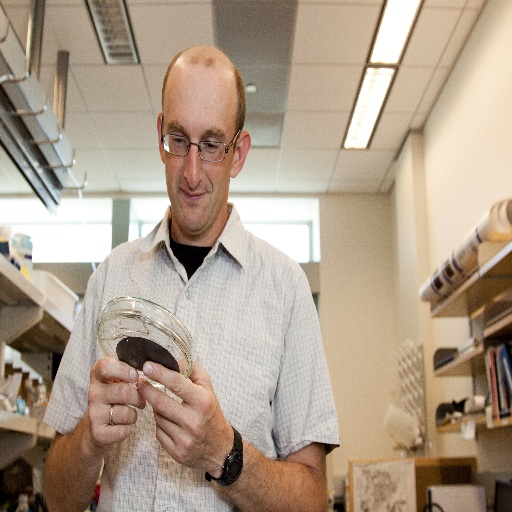hand: (131, 347, 236, 482), (86, 353, 146, 450)
